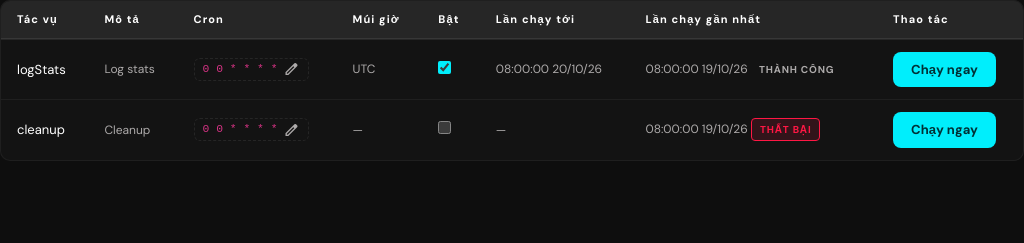
Test: AdminJobsTab › shows the translated server error
This screenshot has width=1024, height=243.
Click the checkbox named "Bật cleanup". click: (445, 128)
box: [438,121,451,134]
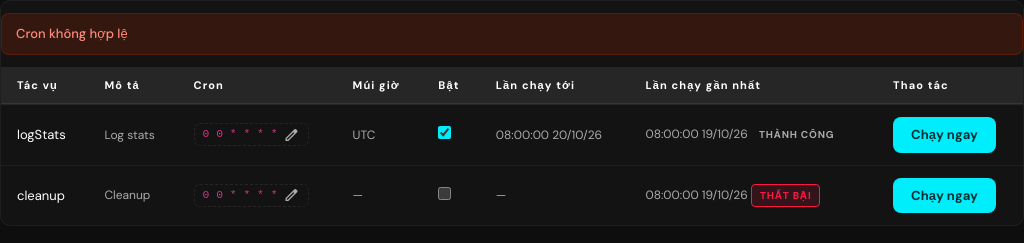
Check: the message reads "Cron không hợp lệ", box [16,25,128,42]
